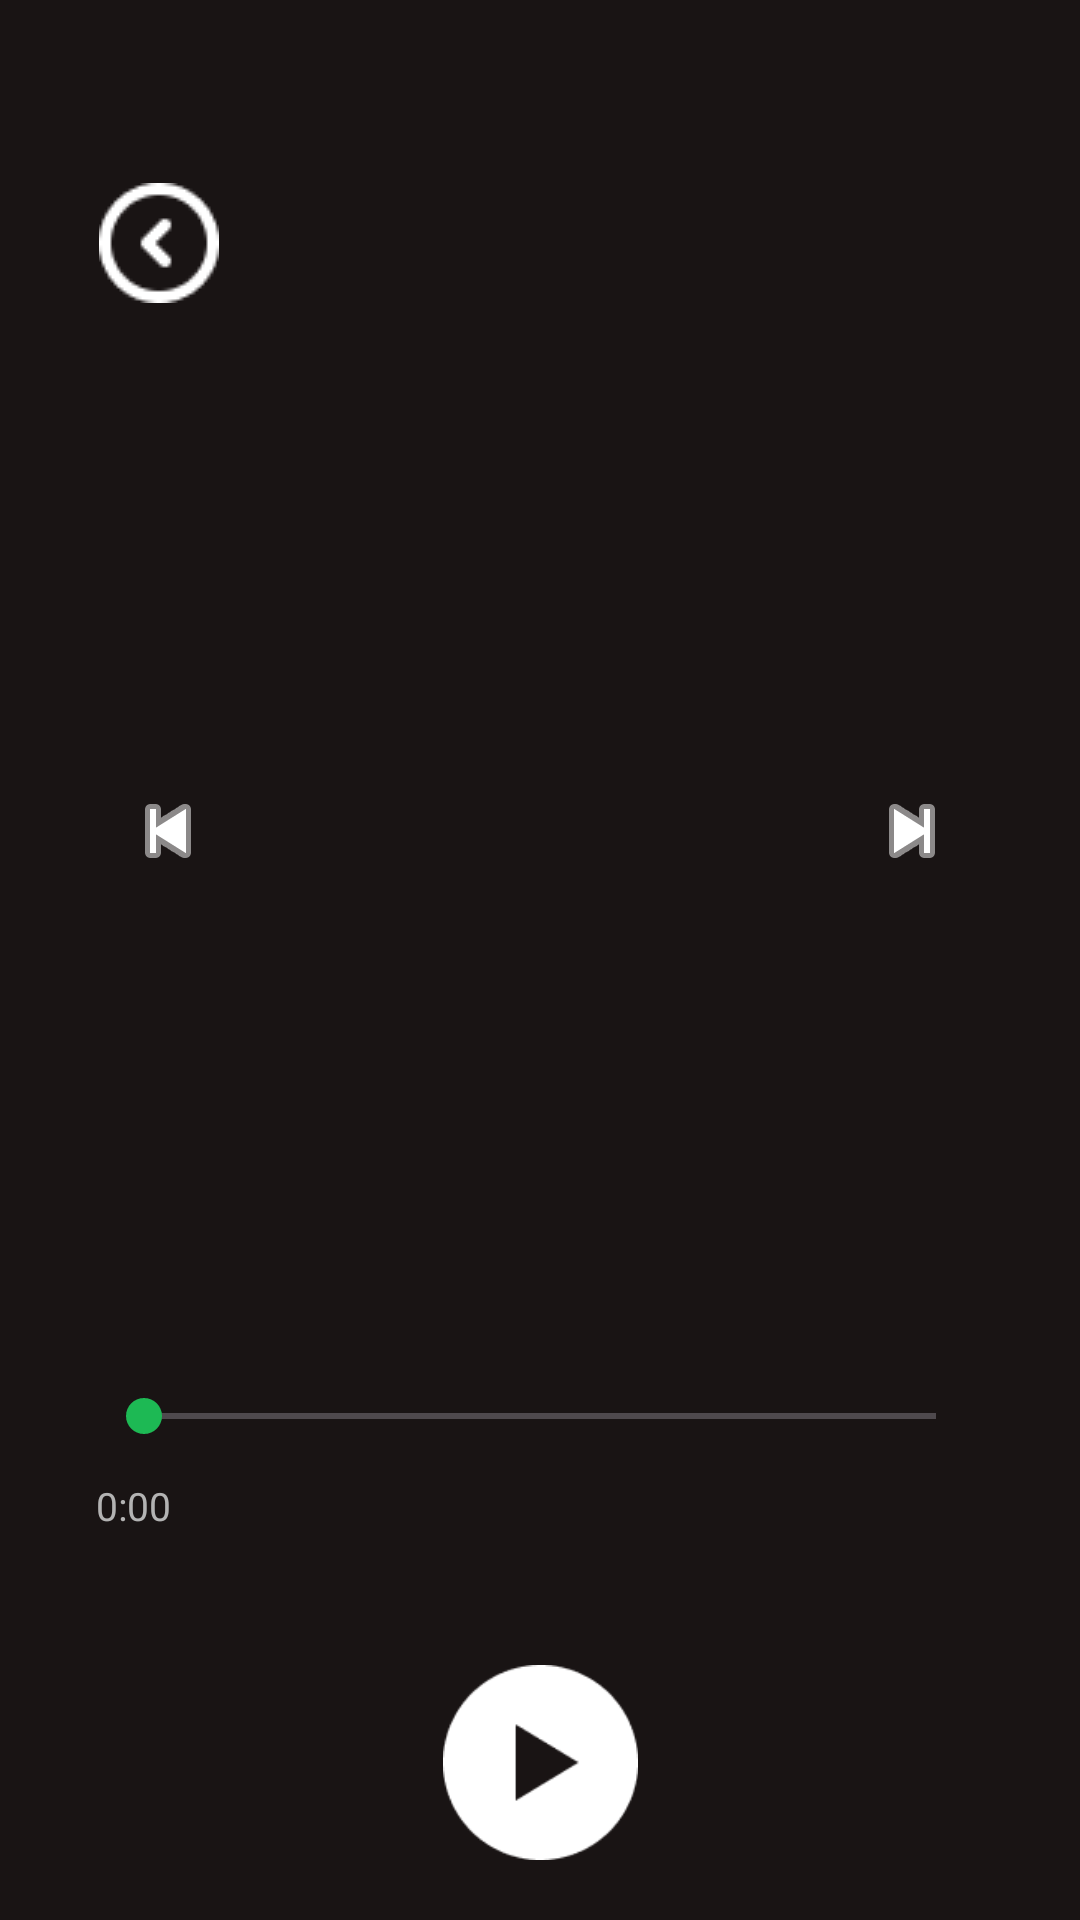

Icon bounding boxes for this 1080px×1920px phone screenshot, format (x1, y1, x2, y2):
arrow back: (99, 183, 219, 303)
Boton de reproducir/pausar: (443, 1665, 638, 1860)
next: (889, 804, 935, 858)
previous: (145, 804, 191, 858)
